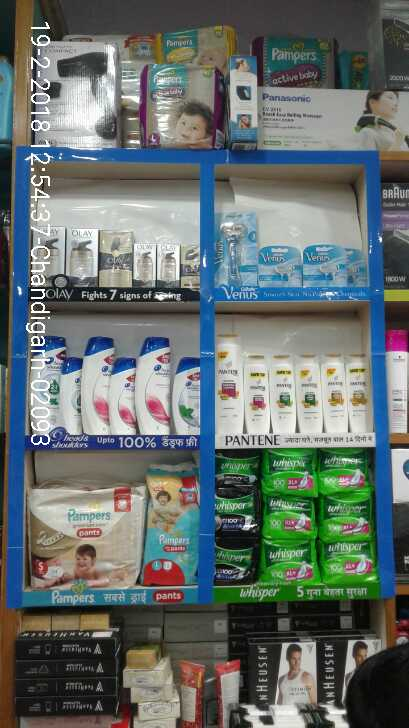venus: (217, 211, 260, 282), (302, 244, 347, 284), (260, 244, 302, 282), (348, 244, 364, 284)
